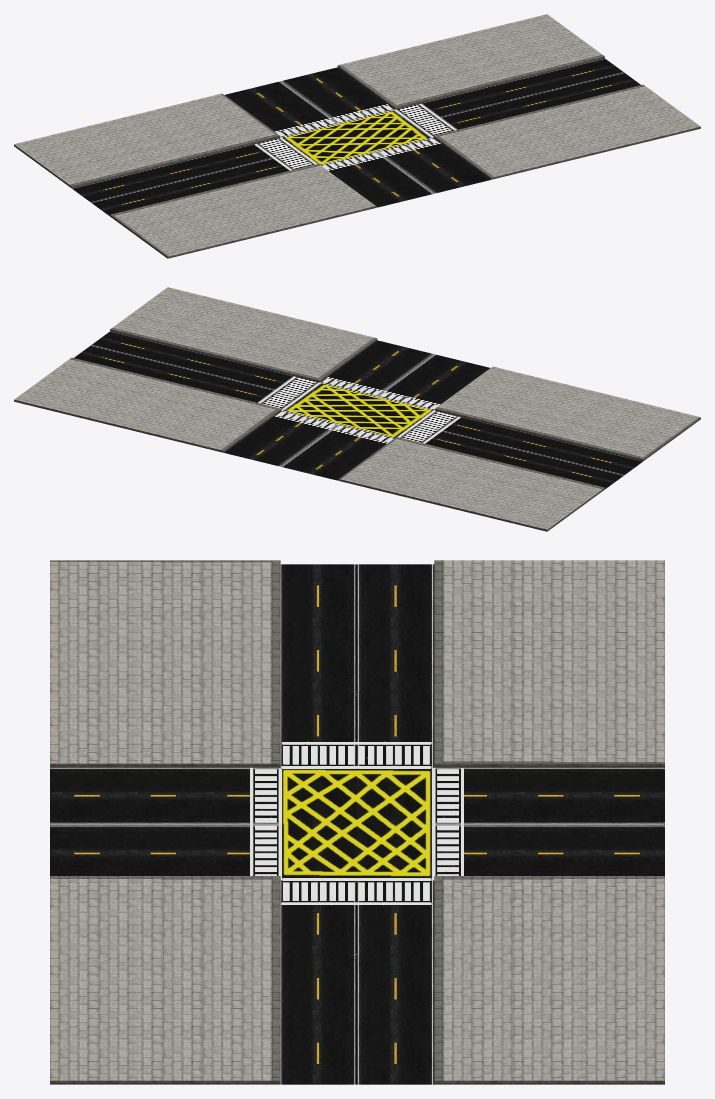
The model's file is Chao.FBX.
3 renders of one model, top to bottom at view 1: azimuth 30°, elevation 25°; view 2: azimuth 150°, elevation 25°; view 3: azimuth 270°, elevation 25°, orthographic. The views are drawn at different scales.
Parts seen in each view (by area): view 1: Plane001; view 2: Plane001; view 3: Plane001.
Boxes of the visible parts, box(x1,y1,x2,y2) form: Plane001: box(14, 14, 700, 258); Plane001: box(14, 287, 700, 531); Plane001: box(50, 560, 664, 1084).
Size of the model in its own units: 280 by 140 by 1.
